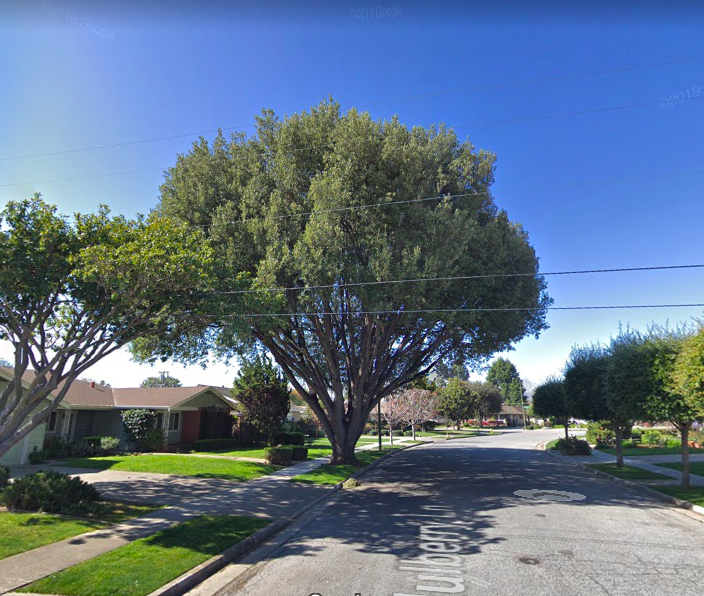tree: (151, 93, 553, 465)
